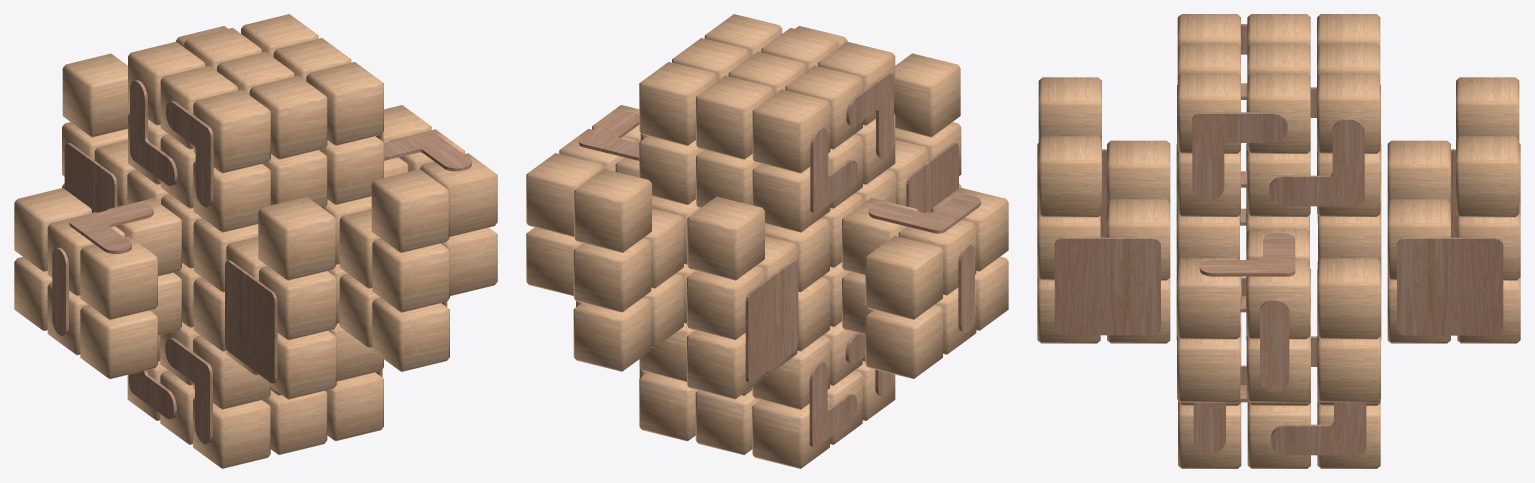
File: level_109.fbx
The picture shows the model from 3 angles, left to right: view 1: azimuth 30°, elevation 25°; view 2: azimuth 150°, elevation 25°; view 3: azimuth 270°, elevation 25°; orthographic projection. The views are drawn at different scales.
Parts seen in each view (by area): view 1: Cube.047, Cube.048, Cube.059, obj_obs_square.003, Cube.075, Cube.011, Cube.027, Cube.045, Cube.060, Cube.009, Cube.010, Cube.036 (+49 smaller); view 2: Cube.075, Cube.076, Cube.078, obj_obs_square.004, Cube.017, Cube.048, Cube.072, Cube.074, Cube.077, Cube.016, Cube.015, Cube.079 (+48 smaller); view 3: obj_obs_square.001, obj_obs_square.005, Cube.047, Cube.076, Cube.079, obj_obs_L.006, obj_obs_L.008, Cube.054, Cube.016, Cube.081, Cube.053, Cube.013 (+35 smaller).
Part boxes in pixels (x1,y1,x2,y2): Cube.047: (371,169,449,252); Cube.048: (258,196,335,280); Cube.059: (80,236,157,319); obj_obs_square.003: (225,260,277,383); Cube.075: (62,53,129,137); Cube.011: (193,89,270,173); Cube.027: (372,238,449,312); Cube.045: (372,297,449,371); Cube.060: (80,305,157,379); Cube.009: (249,75,327,159); Cube.010: (306,62,383,145); Cube.036: (259,266,336,340); Cube.075: (687,196,764,280); Cube.076: (574,169,651,252); Cube.078: (865,236,942,319); obj_obs_square.004: (745,260,798,382); Cube.017: (752,89,830,173); Cube.048: (894,53,960,137); Cube.072: (573,238,651,312); Cube.074: (573,297,651,371); Cube.077: (865,305,942,378); Cube.016: (639,62,716,145); Cube.015: (696,75,773,159); Cube.079: (526,153,603,236); obj_obs_square.001: (1054,237,1160,335); obj_obs_square.005: (1397,237,1503,335); Cube.047: (1038,136,1101,217); Cube.076: (1456,136,1519,217); Cube.079: (1317,258,1380,339); obj_obs_L.006: (1269,118,1364,206); obj_obs_L.008: (1192,112,1287,200); Cube.054: (1177,258,1240,339); Cube.016: (1317,73,1380,153); Cube.081: (1317,336,1380,402); Cube.053: (1177,336,1240,402); Cube.013: (1247,73,1310,153).
Size of the model in its own units: 15.48 by 12.98 by 15.25.
